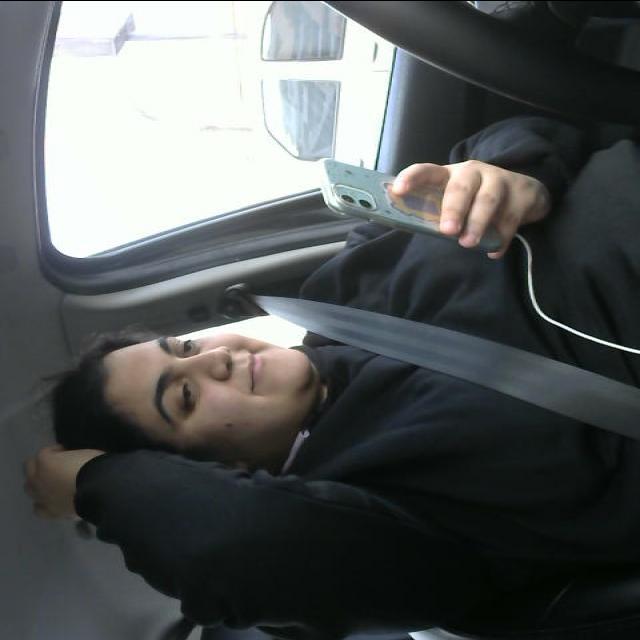mobile use: (321, 153, 508, 245)
